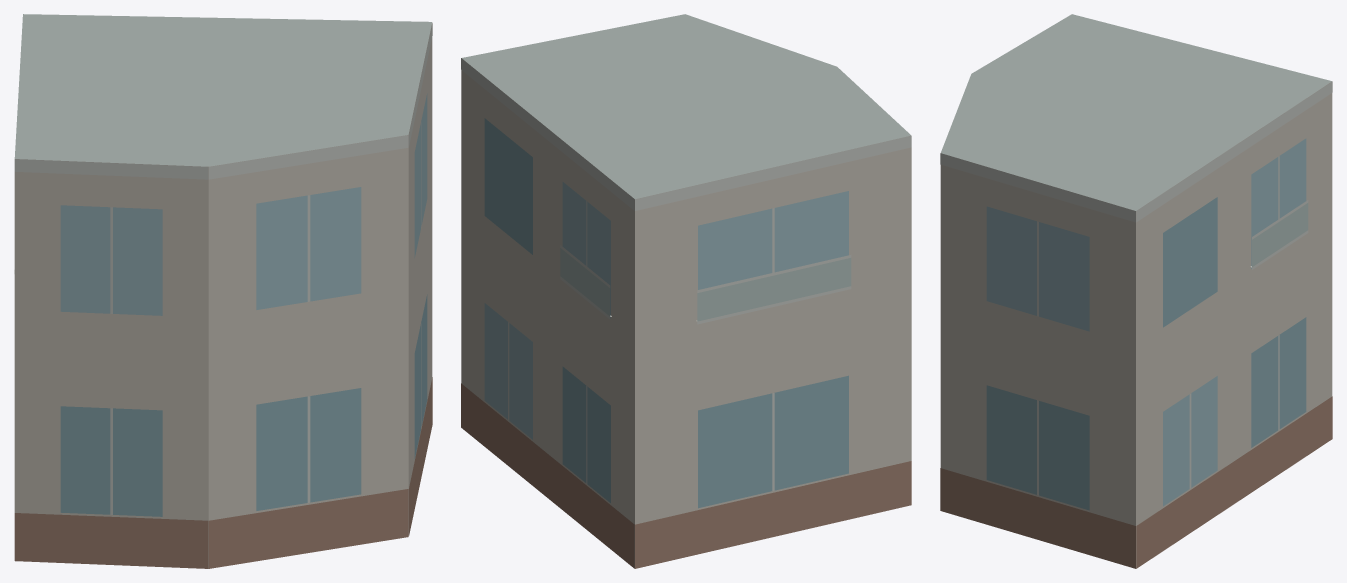
The model's file is survey-upis-32980452.glb.
3 renders of one model, left to right at view 1: azimuth 30°, elevation 25°; view 2: azimuth 150°, elevation 25°; view 3: azimuth 270°, elevation 25°, orthographic. The views are drawn at different scales.
Visible parts, largest first — view 1: survey-upis-32980452.tmp; view 2: survey-upis-32980452.tmp; view 3: survey-upis-32980452.tmp.
Boxes of the visible parts, left/top/right/bottom form: survey-upis-32980452.tmp: left=14, top=14, right=432, bottom=568; survey-upis-32980452.tmp: left=461, top=14, right=911, bottom=568; survey-upis-32980452.tmp: left=940, top=14, right=1332, bottom=568.
Size of the model in its own units: 8.99 by 7.6 by 7.55.
